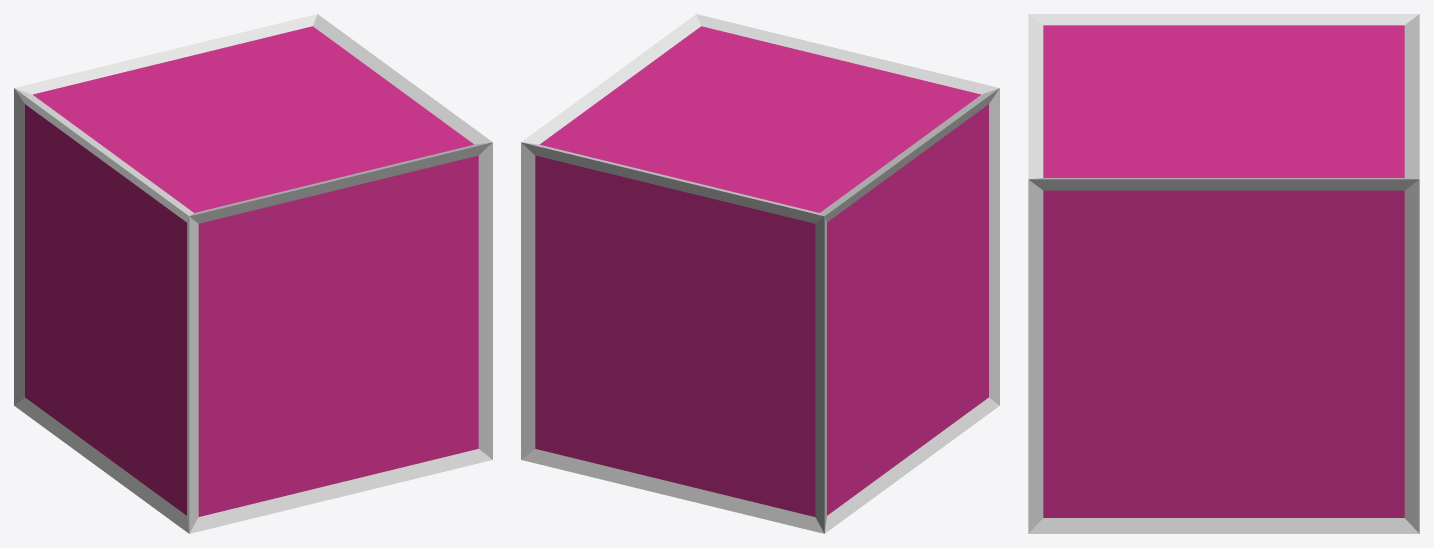
Rendered from BoundingBoxMagenta.glb.
3 renders of one model, left to right at view 1: azimuth 30°, elevation 25°; view 2: azimuth 150°, elevation 25°; view 3: azimuth 270°, elevation 25°, orthographic. The views are drawn at different scales.
Parts seen in each view (by area): view 1: Cube.001; view 2: Cube.001; view 3: Cube.001.
Boxes of the visible parts, left/top/right/bottom form: Cube.001: left=14, top=14, right=492, bottom=533; Cube.001: left=521, top=14, right=999, bottom=533; Cube.001: left=1028, top=14, right=1419, bottom=533.
Size of the model in its own units: 1 by 1 by 1.
